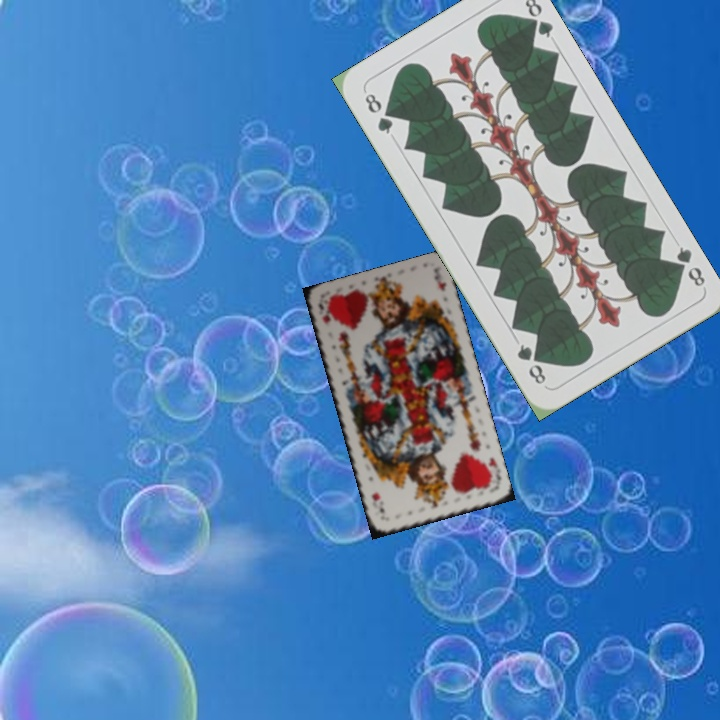G8: (668, 242, 708, 290), (360, 89, 396, 137)
HK: (480, 454, 504, 489), (314, 298, 334, 326)
